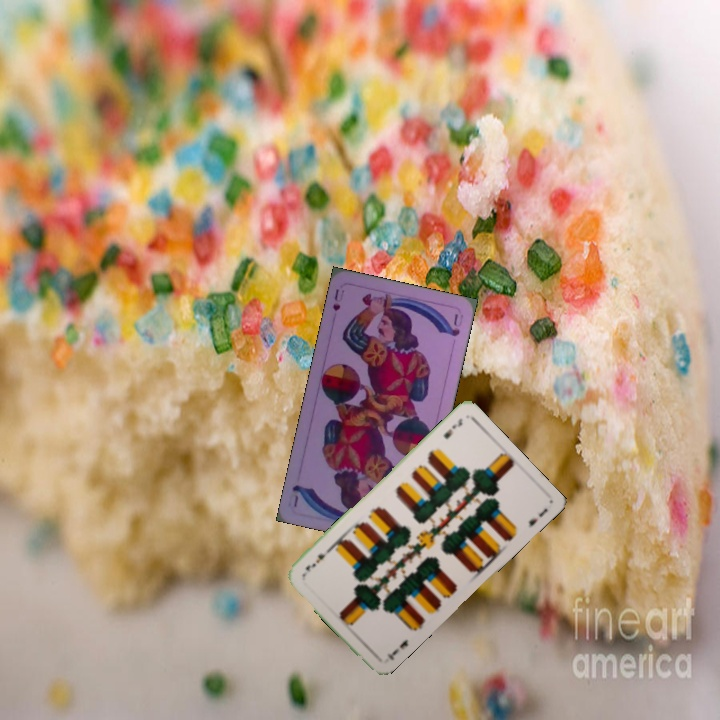E7: (383, 635, 411, 663), (439, 414, 465, 442)
SU: (328, 285, 347, 314)
